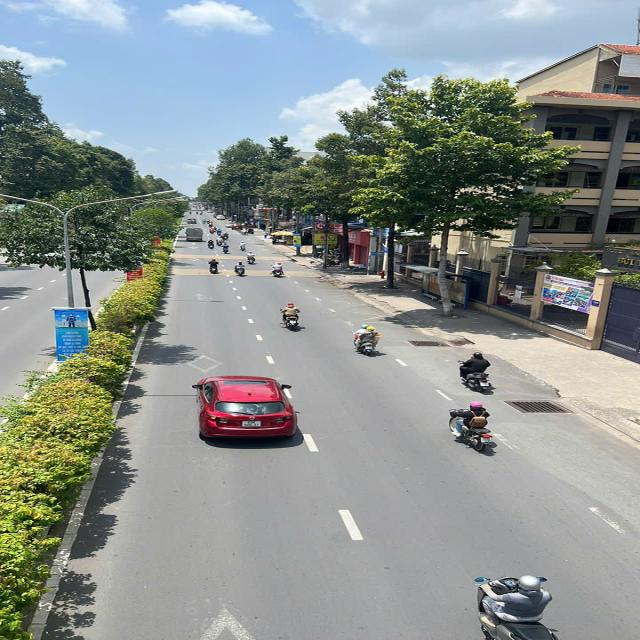ben: (183, 226, 205, 243)
car: (193, 375, 298, 441), (186, 217, 198, 224)
motobyte: (471, 571, 564, 640), (446, 401, 506, 454), (457, 352, 498, 396), (350, 322, 382, 358), (280, 302, 306, 332), (268, 260, 288, 279), (206, 254, 222, 275), (232, 259, 249, 278), (244, 251, 258, 267), (206, 237, 217, 251), (239, 241, 251, 253), (222, 242, 231, 254)
